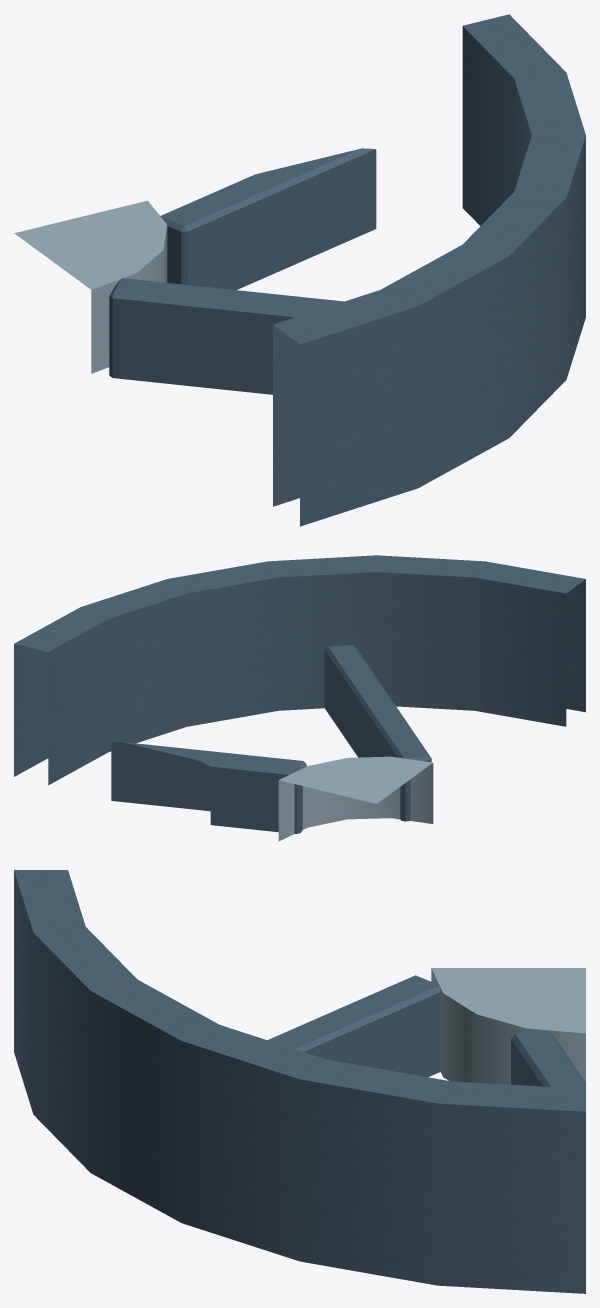
File: cell_19.obj
3 views of the same model, one above another, from view 1: azimuth 30°, elevation 25°; view 2: azimuth 150°, elevation 25°; view 3: azimuth 270°, elevation 25° (orthographic). The views are drawn at different scales.
Visible parts, largest first — view 1: cell_19; view 2: cell_19; view 3: cell_19.
Boxes of the visible parts, box(x1,y1,x2,y2) form: cell_19: box(14, 14, 585, 526); cell_19: box(14, 555, 585, 841); cell_19: box(14, 870, 585, 1293).
Bounding box in the file's own units: 0.37 × 0.13 × 0.37.
